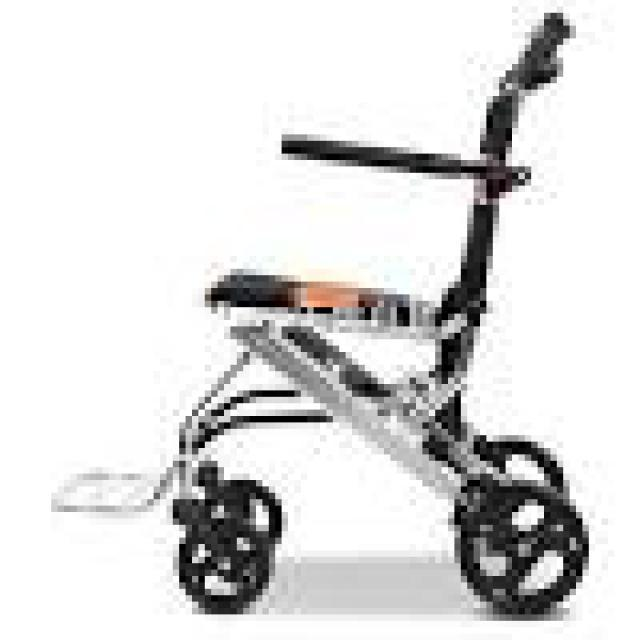wheelchair: (51, 0, 608, 634)
